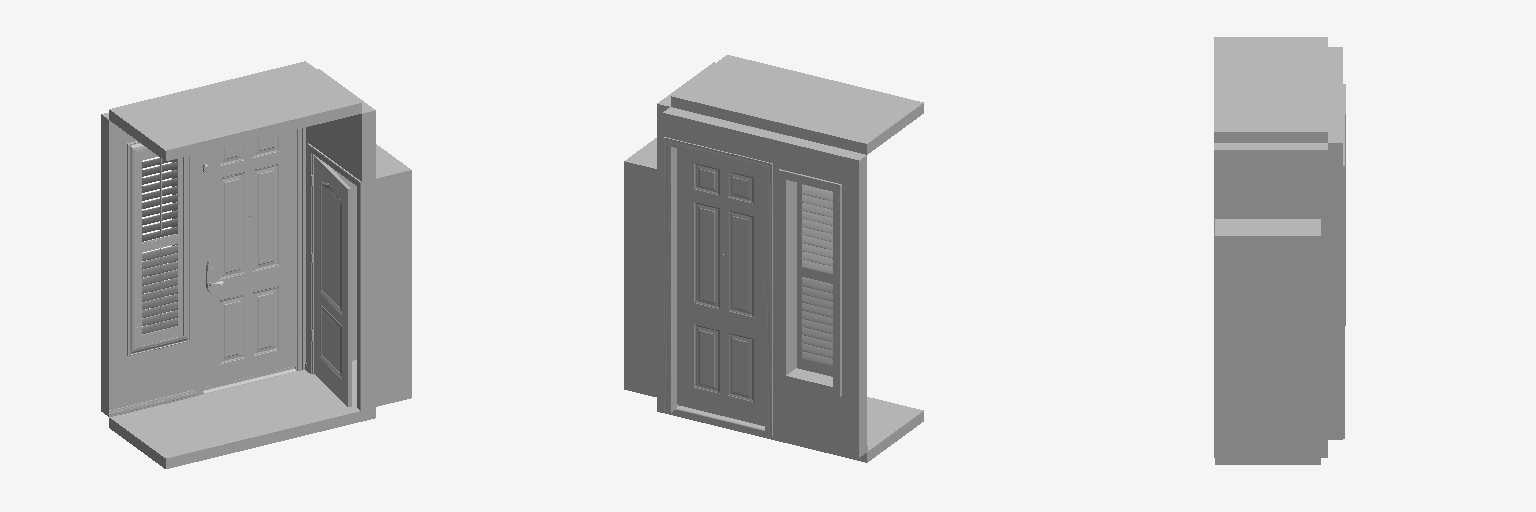
File: FrontDoor.obj
The picture shows the model from 3 angles: view 1: azimuth 30°, elevation 25°; view 2: azimuth 150°, elevation 25°; view 3: azimuth 270°, elevation 25°; orthographic projection.
Parts seen in each view (by area): view 1: FrontDoor; view 2: FrontDoor; view 3: FrontDoor.
Boxes of the visible parts, <box> form: FrontDoor: <box>101,61,411,468</box>; FrontDoor: <box>624,55,923,462</box>; FrontDoor: <box>1214,37,1345,464</box>.
Size of the model in its own units: 9.52 by 11.77 by 4.4.